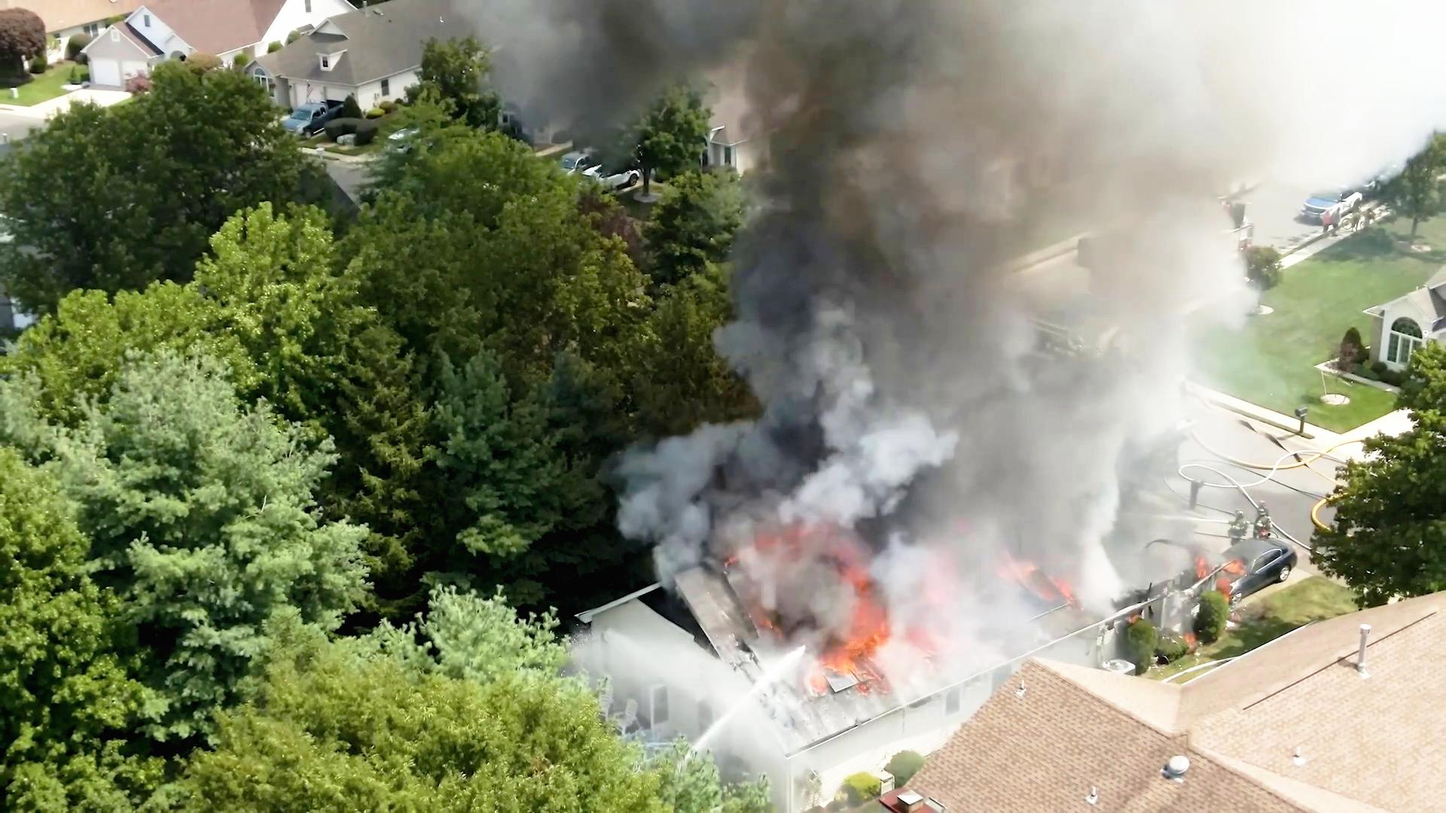smoke: (938, 2, 1350, 234), (765, 202, 1084, 488), (720, 0, 1040, 211)
